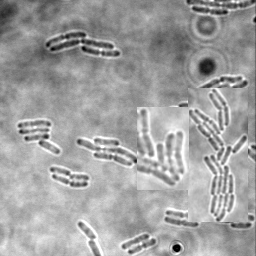Dividing: (52, 175, 89, 189), (128, 238, 157, 255), (164, 217, 200, 228), (192, 7, 229, 17), (166, 209, 188, 222)
Microcolony: (188, 88, 248, 222), (137, 107, 189, 190), (45, 32, 121, 57), (76, 137, 137, 168), (18, 120, 61, 155)
Rod: (121, 233, 150, 251), (78, 222, 99, 240), (50, 167, 72, 177), (69, 174, 90, 183)
